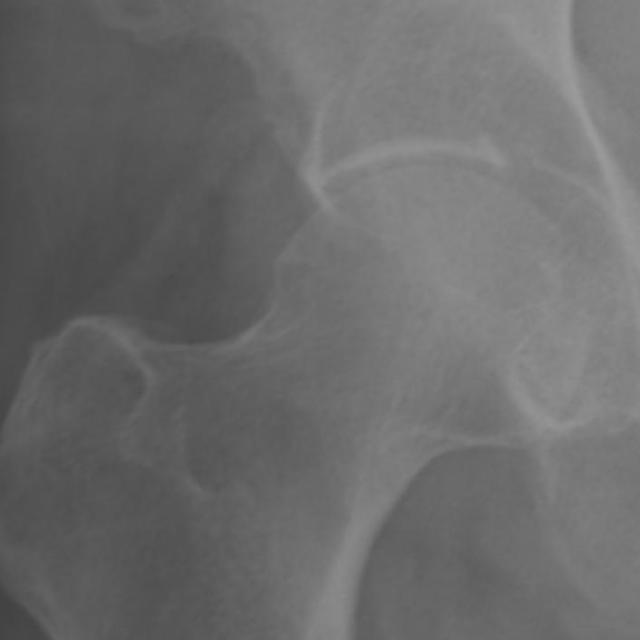Fitted_femural_head: (332, 158, 432, 332)
